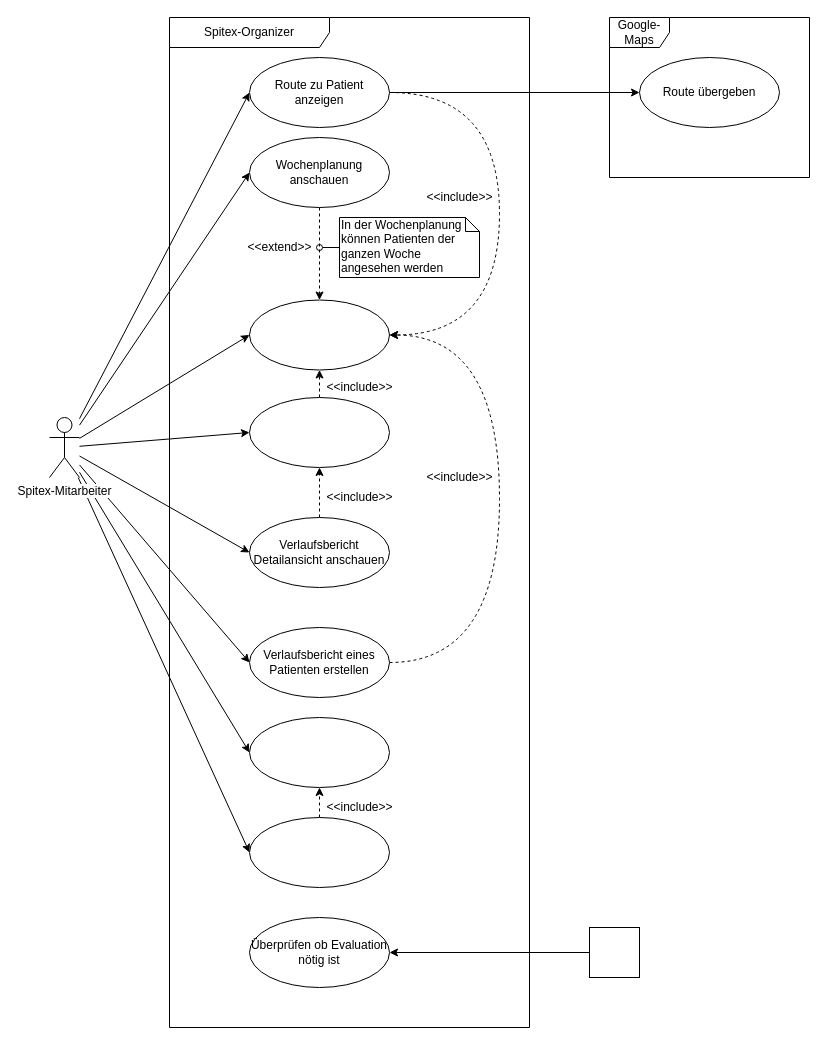
This 827x1045 diagram has some shape labels left out. The shapes that lost their labels are listed below. From the top down, each one's centre as x and y in pixels, then its label:
the point at 319,334: Patienten-Detailansicht anschauen
the point at 319,432: Verlaufsberichte eines Patienten anschauen
the point at 319,752: Offene Evaluationen anzeigen
the point at 319,852: Evaluation schreiben
the point at 614,952: Sytem-Clock
